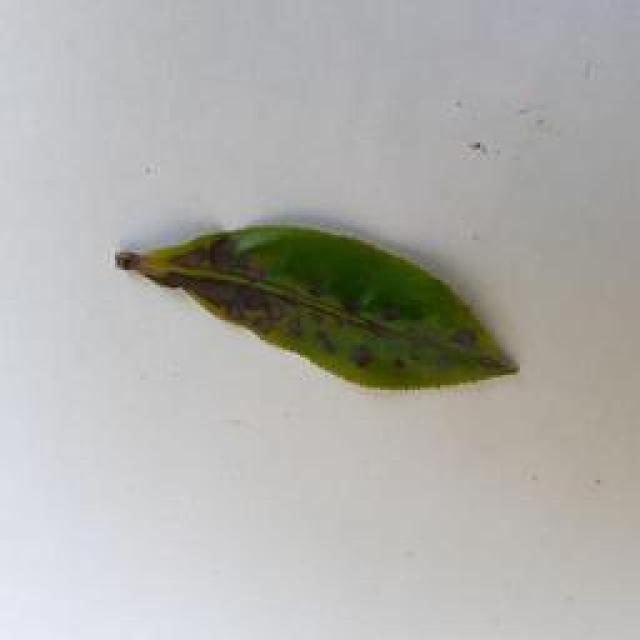Helopeltis: (108, 212, 534, 397)
